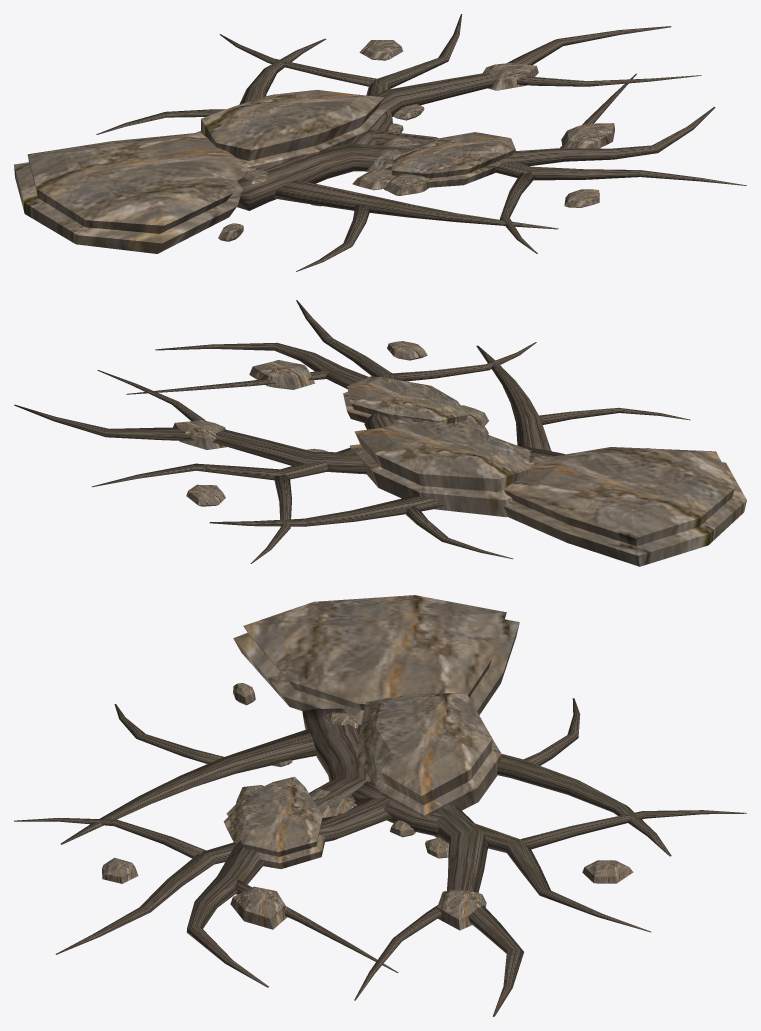
File: ground-kit-low-r15.glb
3 renders of one model, top to bottom at view 1: azimuth 30°, elevation 25°; view 2: azimuth 150°, elevation 25°; view 3: azimuth 270°, elevation 25°, orthographic. The views are drawn at different scales.
Visible parts, largest first — view 1: weatheredShoulderSlabs_mesh, rootShoulderB_mesh, rootShoulderA_mesh, trailDetailB_mesh, trailDetailA_mesh, trailDetailC_mesh; view 2: weatheredShoulderSlabs_mesh, rootShoulderA_mesh, rootShoulderB_mesh; view 3: weatheredShoulderSlabs_mesh, rootShoulderB_mesh, rootShoulderA_mesh, trailDetailA_mesh, trailDetailB_mesh.
Part boxes in pixels (x1,y1,x2,y2): weatheredShoulderSlabs_mesh: (14, 89, 515, 253); rootShoulderB_mesh: (219, 14, 715, 271); rootShoulderA_mesh: (96, 26, 746, 253); trailDetailB_mesh: (244, 123, 429, 195); trailDetailA_mesh: (218, 104, 424, 241); trailDetailC_mesh: (311, 141, 420, 206); weatheredShoulderSlabs_mesh: (343, 376, 746, 566); rootShoulderA_mesh: (14, 300, 536, 558); rootShoulderB_mesh: (91, 341, 690, 563); weatheredShoulderSlabs_mesh: (223, 595, 519, 868); rootShoulderB_mesh: (60, 704, 746, 987); rootShoulderA_mesh: (14, 698, 671, 1016); trailDetailA_mesh: (233, 683, 449, 858); trailDetailB_mesh: (236, 712, 415, 837).
Bounding box in the file's own units: 2.24 × 0.1727 × 1.74.
Materials: 1 (1 with a texture image).
